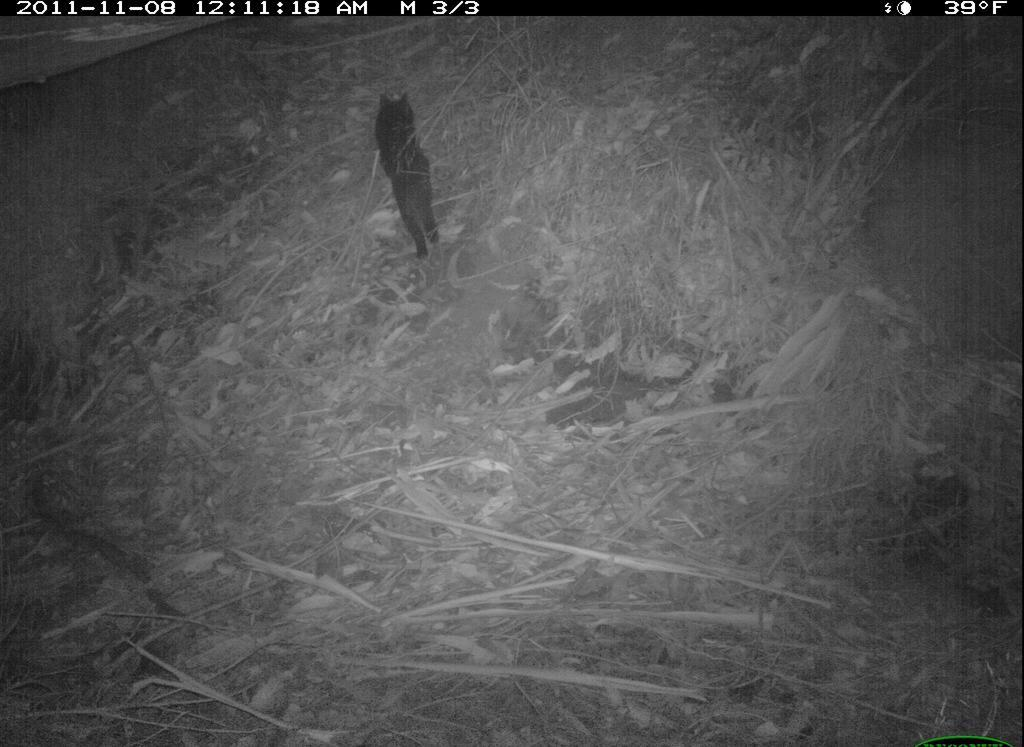cat: (355, 82, 477, 280)
